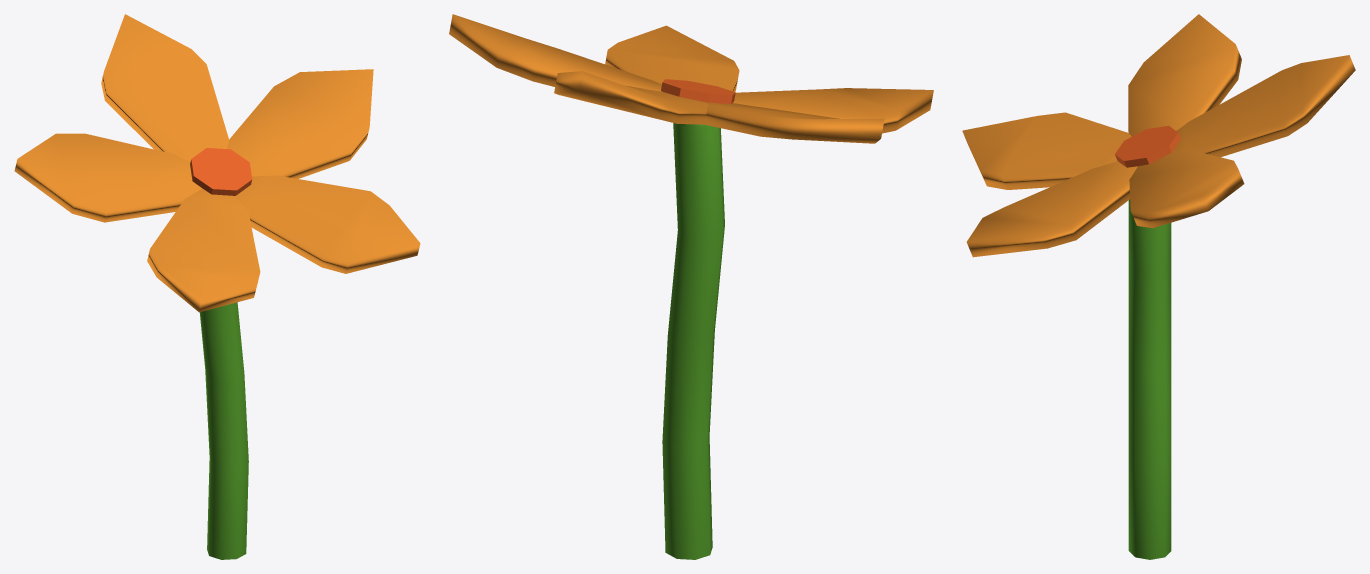
Rendered from Flower_Orange_4.fbx.
The picture shows the model from 3 angles, left to right: view 1: azimuth 30°, elevation 25°; view 2: azimuth 150°, elevation 25°; view 3: azimuth 270°, elevation 25°; orthographic projection. The views are drawn at different scales.
Parts seen in each view (by area): view 1: Cube.093, Cylinder.621, Cylinder.619; view 2: Cube.093, Cylinder.621, Cylinder.619; view 3: Cube.093, Cylinder.621, Cylinder.619.
Boxes of the visible parts, bbox=[...] form: Cube.093: bbox=[14, 14, 420, 312]; Cylinder.621: bbox=[199, 302, 248, 559]; Cylinder.619: bbox=[190, 148, 252, 195]; Cube.093: bbox=[449, 14, 933, 143]; Cylinder.621: bbox=[662, 123, 724, 559]; Cylinder.619: bbox=[661, 79, 735, 103]; Cube.093: bbox=[962, 14, 1355, 257]; Cylinder.621: bbox=[1128, 199, 1171, 559]; Cylinder.619: bbox=[1115, 125, 1180, 167].
Bounding box in the file's own units: 71.56 × 89.76 × 64.99.
